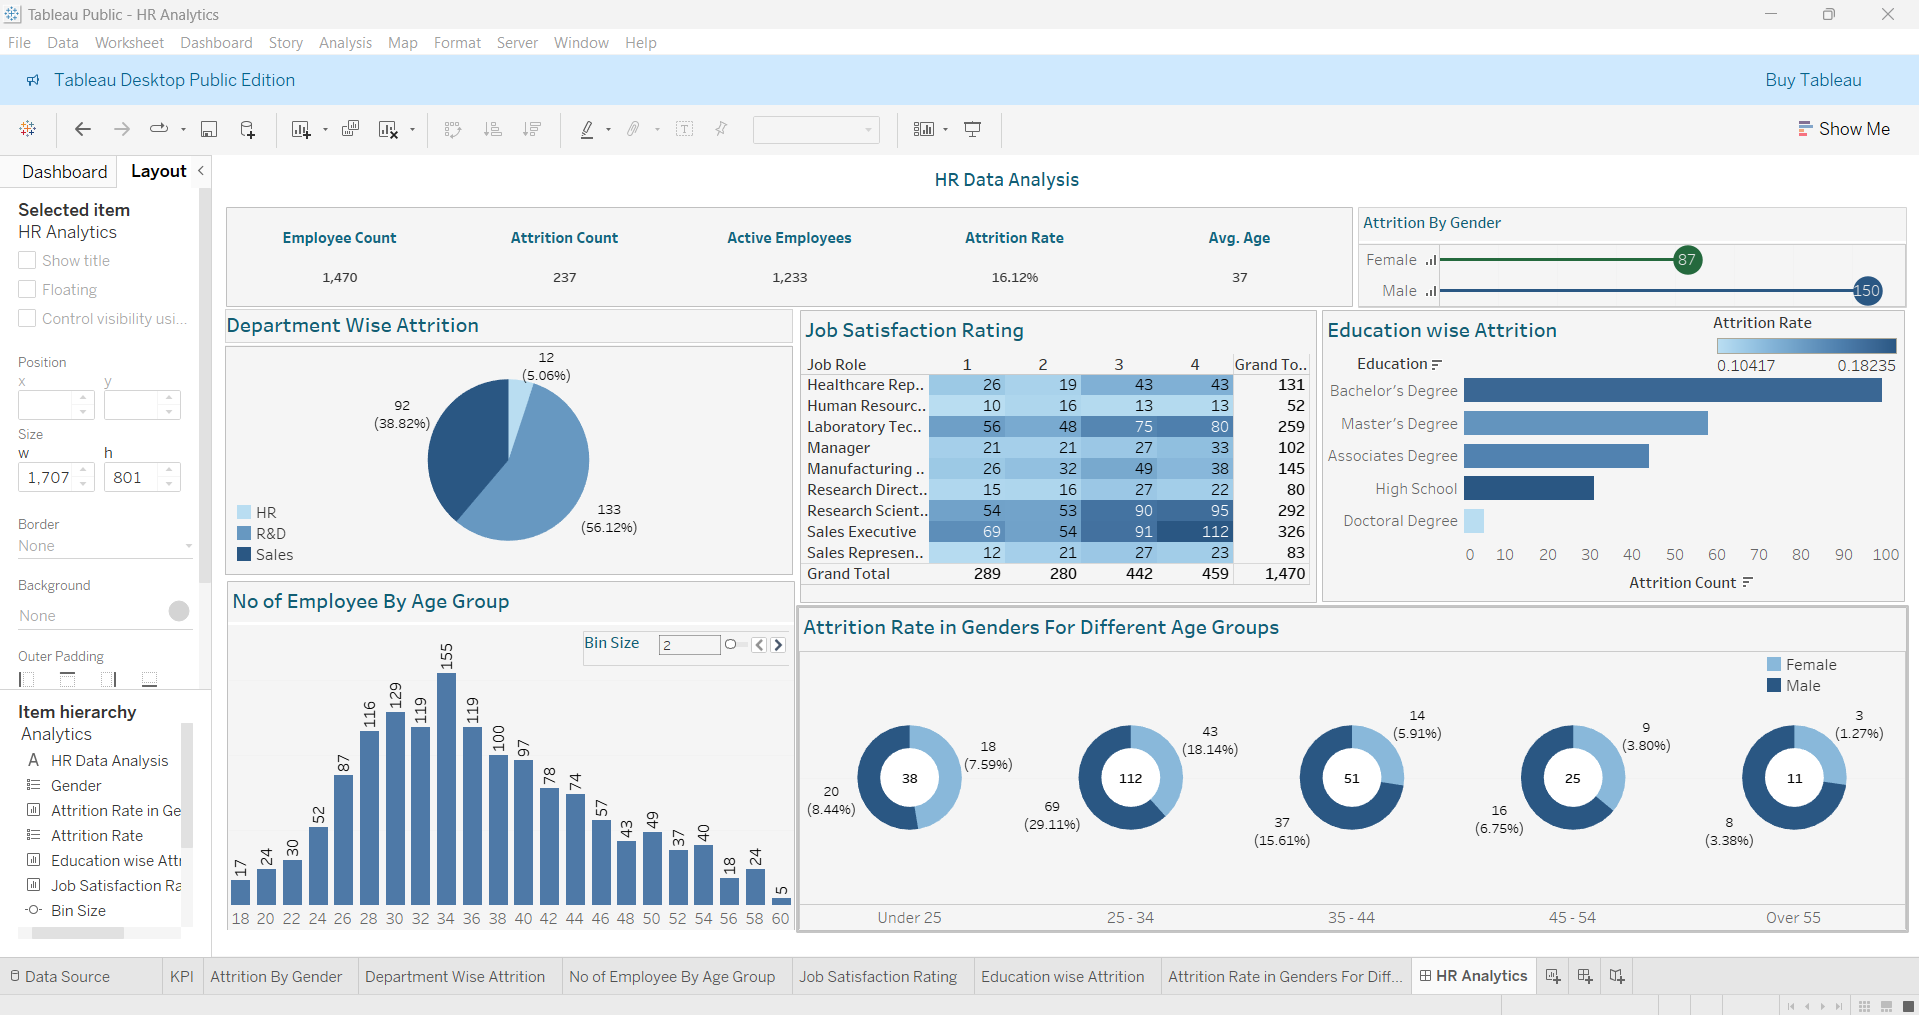

The page's visual inventory and layout, read from the dashboard file:
{"tool":"tableau","page":{"name":"HR Analytics","canvas":[1000,1000],"units":"permille","ordinal":0},"visuals":[{"type":"text","box":[299.4,11.2,332.8,37.5]},{"type":"worksheet","title":"KPI","mark":"Automatic","box":[8.1,65.5,660,124.5]},{"type":"worksheet","title":"Attrition By Gender","mark":"Automatic","rows":["Gender"],"cols":["Calculation_1088745272085680128","Calculation_1088745272085680128"],"box":[671.3,65.5,321.8,125.8]},{"type":"worksheet","title":"Department Wise Attrition","mark":"Pie","box":[7.8,192.6,333,332.5]},{"type":"worksheet","title":"Job Satisfaction Rating","mark":"Square","rows":["Job Role"],"cols":["Job Satisfaction"],"box":[344.5,193.5,302.9,365.8]},{"type":"worksheet","title":"Education wise Attrition","mark":"Automatic","rows":["Education"],"cols":["Calculation_1088745272085680128"],"box":[650.3,193.5,341.5,364.5]},{"type":"legend","title":"Education wise Attrition","param":"[federated.0732sw60pqmd1u1gjud4w00wo1v9].[usr:Calculation_1088745272086470657:qk","box":[879.3,196,110.1,79.9]},{"type":"legend","title":"Department Wise Attrition","param":"[federated.0732sw60pqmd1u1gjud4w00wo1v9].[none:Department:nk]","box":[13,432.6,90,86]},{"type":"worksheet","title":"No of Employee By Age Group","mark":"Automatic","rows":["Employee Count"],"cols":["Age (bin)"],"box":[8.7,531.5,333,436.5]},{"type":"worksheet","title":"Attrition Rate in Genders For Different Age Groups ","mark":"Pie","rows":["Calculation_137922800909352961","Calculation_137922800909352961"],"cols":["CF_age band"],"box":[343.3,564.3,649.7,404.5]},{"type":"parameter","param":"[Parameters].[Parameter 1]","box":[217.1,594.4,121.1,43.6]},{"type":"legend","title":"Attrition Rate in Genders For Different Age Groups ","param":"[federated.0732sw60pqmd1u1gjud4w00wo1v9].[none:Gender:nk]","box":[909.2,623,82,79.9]}]}

Visuals, with their boxes on the dashboard's canvas, which has no fixed pixel size, in thousandths of its width and height (x1, y1, x2, y2). These are canvas units, not pixel positions in the 1919x1015 screenshot, which may show the page scaled, cropped or inside an application window:
text: Rect(299, 11, 632, 49)
"KPI" worksheet: Rect(8, 66, 668, 190)
"Attrition By Gender" worksheet: Rect(671, 66, 993, 191)
"Department Wise Attrition" worksheet (Pie marks): Rect(8, 193, 341, 525)
"Job Satisfaction Rating" worksheet (Square marks): Rect(344, 194, 647, 559)
"Education wise Attrition" worksheet: Rect(650, 194, 992, 558)
"Education wise Attrition" legend: Rect(879, 196, 989, 276)
"Department Wise Attrition" legend: Rect(13, 433, 103, 519)
"No of Employee By Age Group" worksheet: Rect(9, 532, 342, 968)
"Attrition Rate in Genders For Different Age Groups " worksheet (Pie marks): Rect(343, 564, 993, 969)
parameter: Rect(217, 594, 338, 638)
"Attrition Rate in Genders For Different Age Groups " legend: Rect(909, 623, 991, 703)
